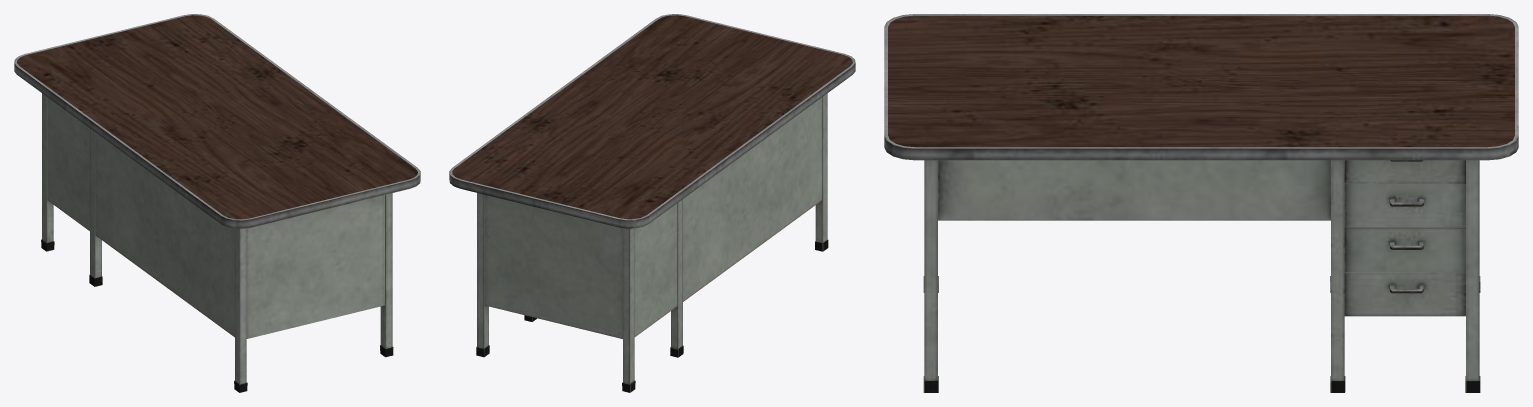
File: staff_desk.glb
3 renders of one model, left to right at view 1: azimuth 30°, elevation 25°; view 2: azimuth 150°, elevation 25°; view 3: azimuth 270°, elevation 25°, orthographic. The views are drawn at different scales.
Visible parts, largest first — view 1: Desk; view 2: Desk; view 3: Desk.
Part boxes in pixels (x1=…): Desk: x1=14, y1=14, x2=420, y2=392; Desk: x1=449, y1=14, x2=855, y2=392; Desk: x1=884, y1=14, x2=1518, y2=392.
Bounding box in the file's own units: 0.9491 × 0.85 × 1.89.
Materials: 1 (1 with a texture image).
